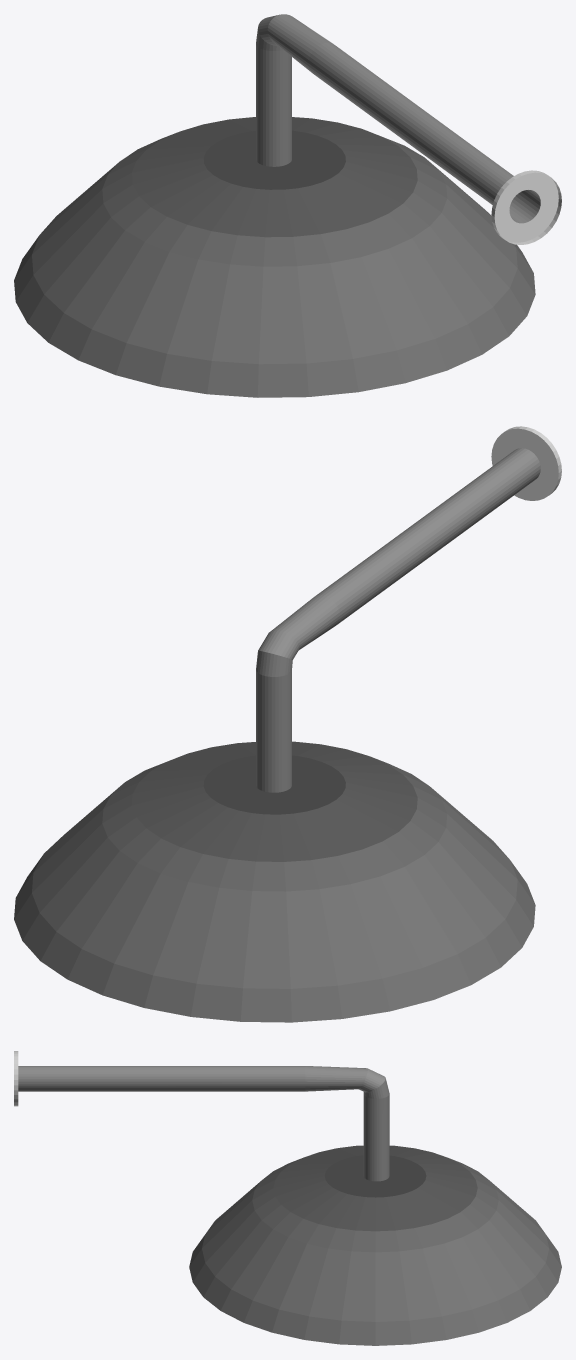
File: ShowerHeadModel.fbx
The picture shows the model from 3 angles, top to bottom: view 1: azimuth 30°, elevation 25°; view 2: azimuth 150°, elevation 25°; view 3: azimuth 270°, elevation 25°; orthographic projection. The views are drawn at different scales.
Visible parts, largest first — view 1: ShowerHeadModel; view 2: ShowerHeadModel; view 3: ShowerHeadModel.
Boxes of the visible parts, <box> form: ShowerHeadModel: <box>14,14,561,397</box>; ShowerHeadModel: <box>14,426,561,1022</box>; ShowerHeadModel: <box>14,1051,561,1345</box>.
Bounding box in the file's own units: 44.94 × 28.41 × 66.05.
